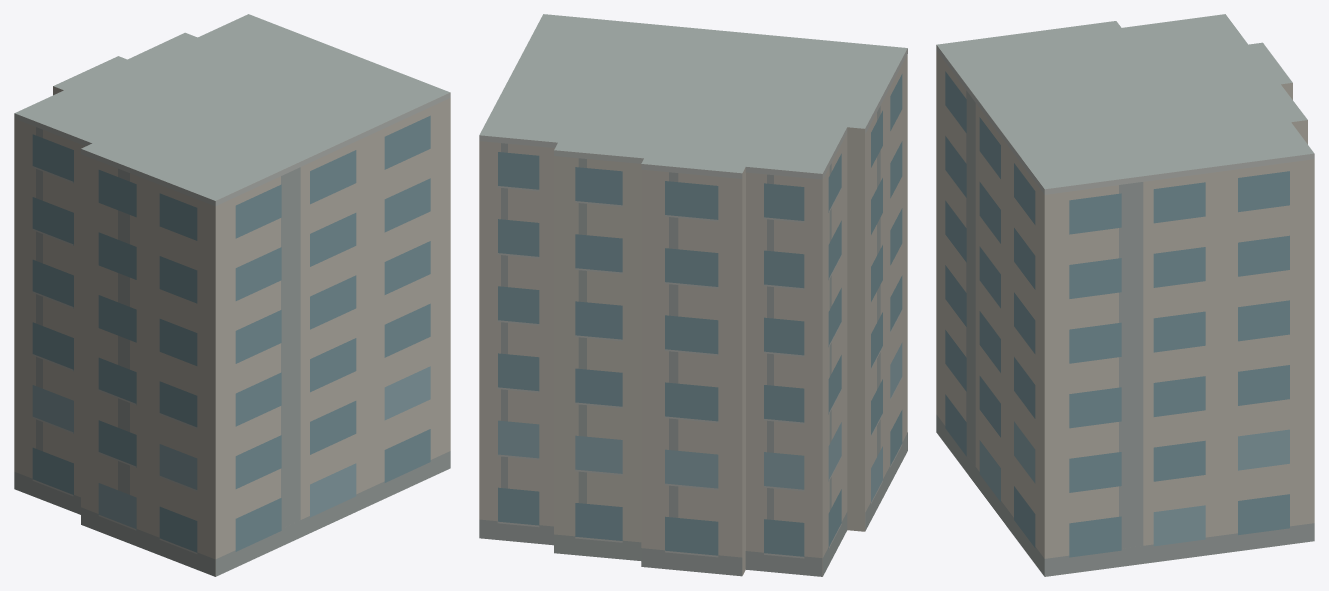
File: survey-upis-32616321.glb
3 renders of one model, left to right at view 1: azimuth 30°, elevation 25°; view 2: azimuth 150°, elevation 25°; view 3: azimuth 270°, elevation 25°, orthographic. The views are drawn at different scales.
Parts seen in each view (by area): view 1: survey-upis-32616321.tmp; view 2: survey-upis-32616321.tmp; view 3: survey-upis-32616321.tmp.
Boxes of the visible parts, x1,y1,x2,y2 form: survey-upis-32616321.tmp: (14, 14, 450, 576); survey-upis-32616321.tmp: (479, 14, 907, 576); survey-upis-32616321.tmp: (936, 14, 1314, 576).
Size of the model in its own units: 16.45 by 16.95 by 14.99.
